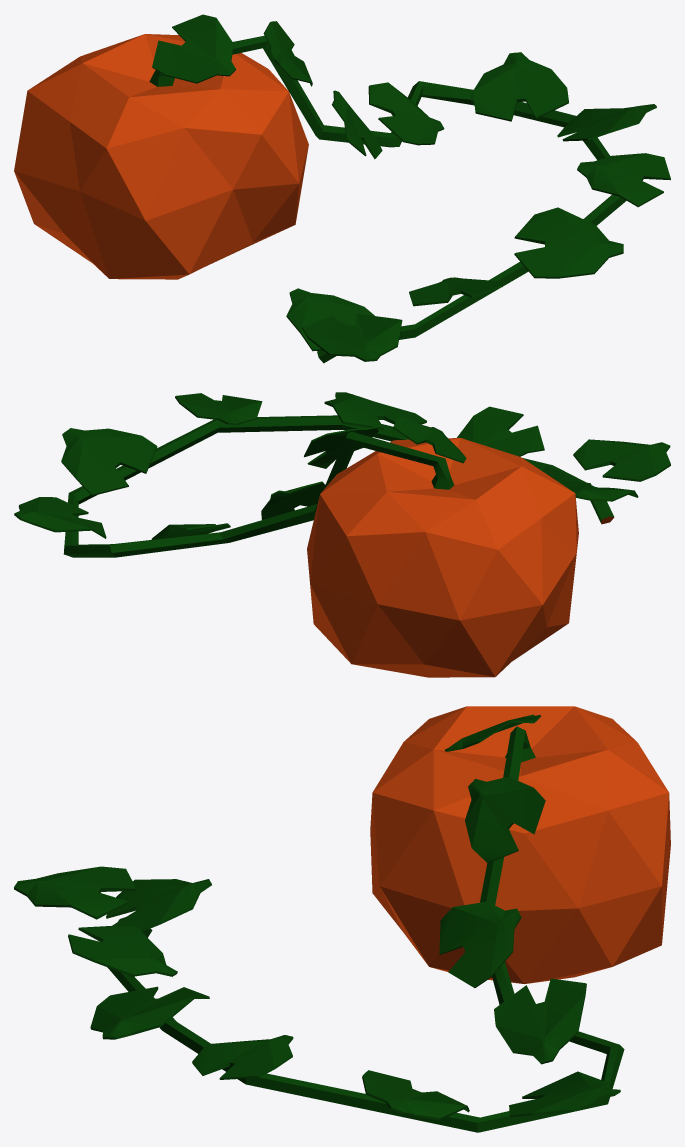
The model's file is pumpkinStage3.obj.
The picture shows the model from 3 angles, top to bottom: view 1: azimuth 30°, elevation 25°; view 2: azimuth 150°, elevation 25°; view 3: azimuth 270°, elevation 25°; orthographic projection. The views are drawn at different scales.
Parts seen in each view (by area): view 1: Icosphere.001; view 2: Icosphere.001; view 3: Icosphere.001.
Boxes of the visible parts, bbox=[...] form: Icosphere.001: bbox=[14, 14, 670, 363]; Icosphere.001: bbox=[14, 392, 670, 677]; Icosphere.001: bbox=[14, 706, 670, 1132].
Size of the model in its own units: 1.81 by 0.6708 by 1.57.
